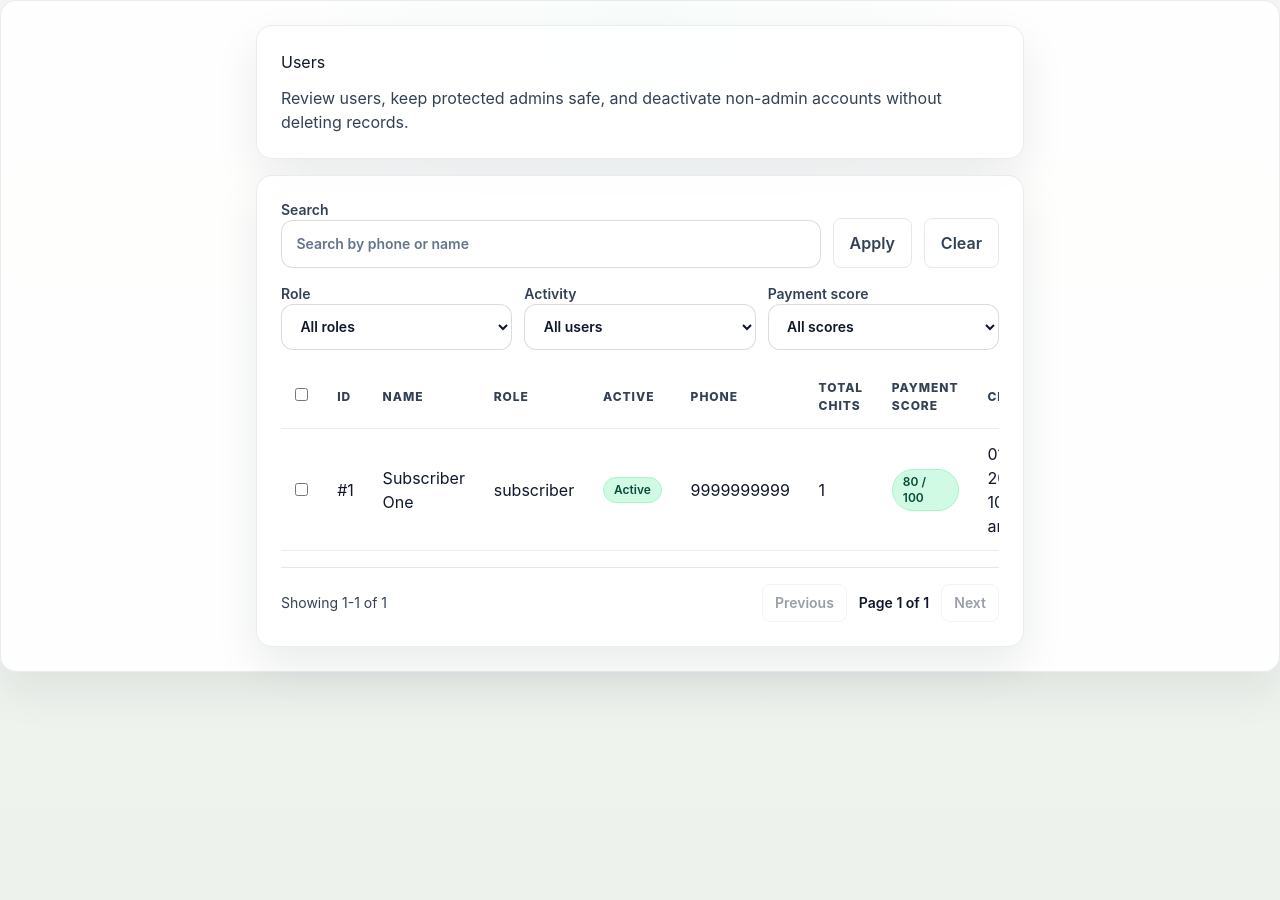
Test case: UsersPage applies a phone or name search from the admin toolbar
The width and height of the screenshot is (1280, 900).
Check: the link "Subscriber One" is shown, box left=383, top=468, right=465, bottom=512
Type "owner" into the search field labelled "Search" at (551, 244), box left=281, top=220, right=820, bottom=268
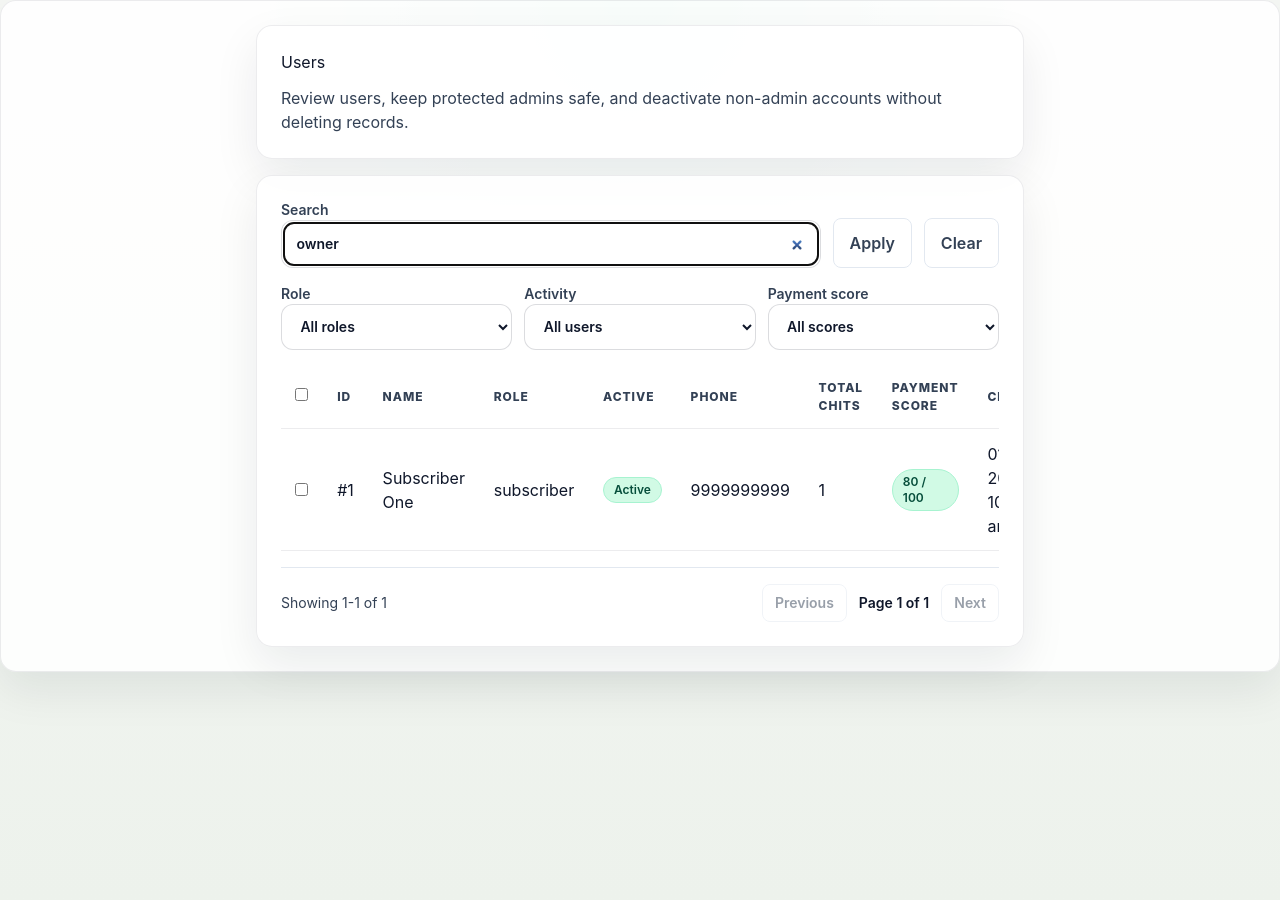
Click the button with aria-label "Apply search" at (872, 243), box left=832, top=218, right=912, bottom=268
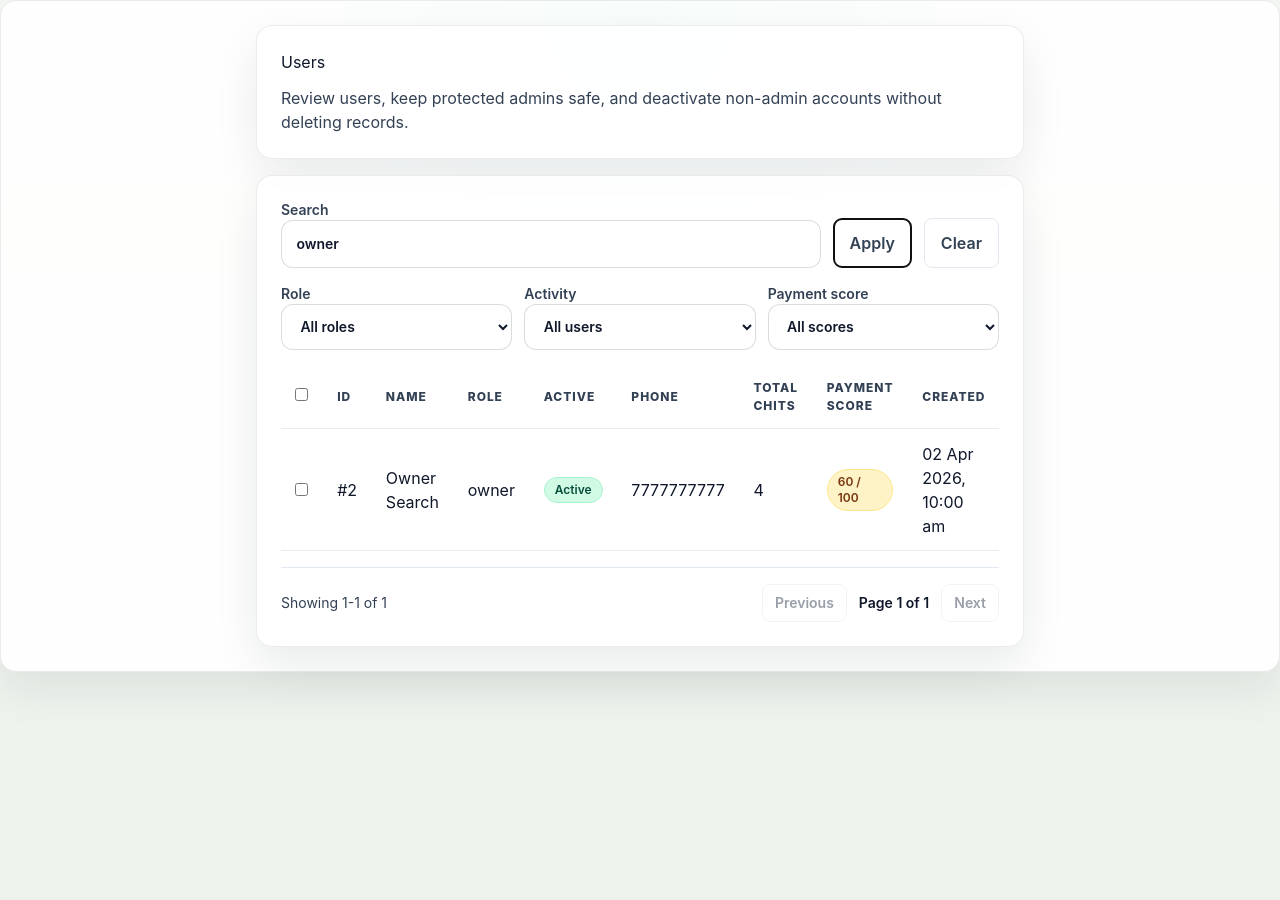
Check: the link "Owner Search" is shown, box left=386, top=468, right=439, bottom=512
